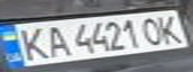1: (121, 16, 145, 48)
2: (103, 17, 127, 52)
4: (69, 20, 93, 55), (90, 19, 112, 53)
A: (39, 22, 72, 58)
K: (9, 25, 54, 62), (154, 11, 187, 44)
O: (136, 13, 169, 46)
